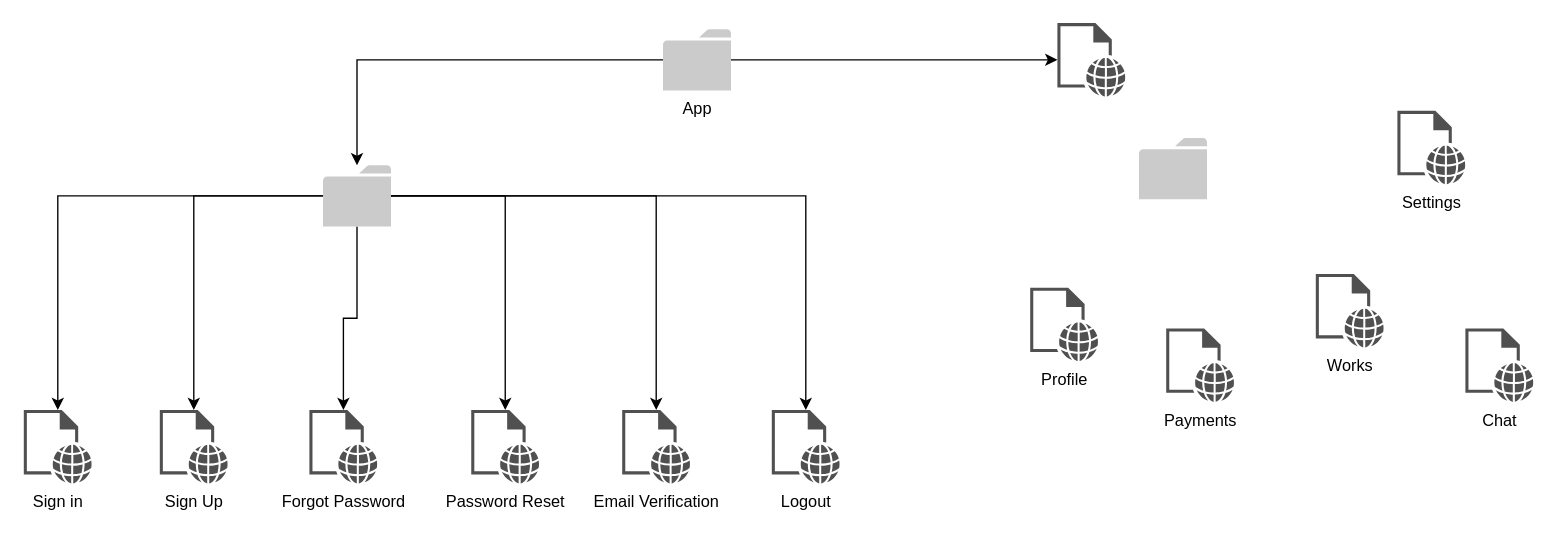
The diagram is 1556 pixels wide and 536 high, and some of its shapes have lost their labels. The shapes that lost their labels are listed below. From the top down, each one's box as (x1, y1, x2, y2) in pixels, then its label:
(1057, 22, 1125, 96): index
(1138, 137, 1206, 199): Dashboard
(322, 165, 390, 226): Authentication
